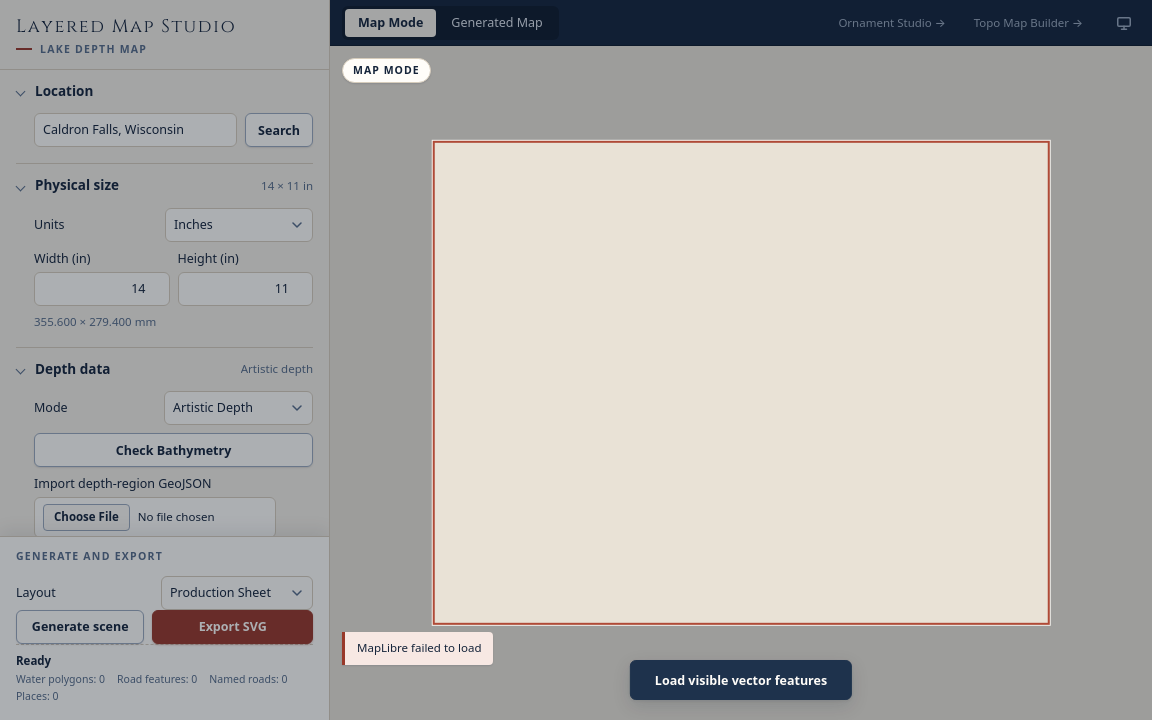
Test: a refused generate is impossible to miss › routes a thrown generate to the sidebar, the always-visible banner, and the preview
Select "True Bathymetry" in the dropdown labelled "Mode" at (238,408), box [164,391,313,425]
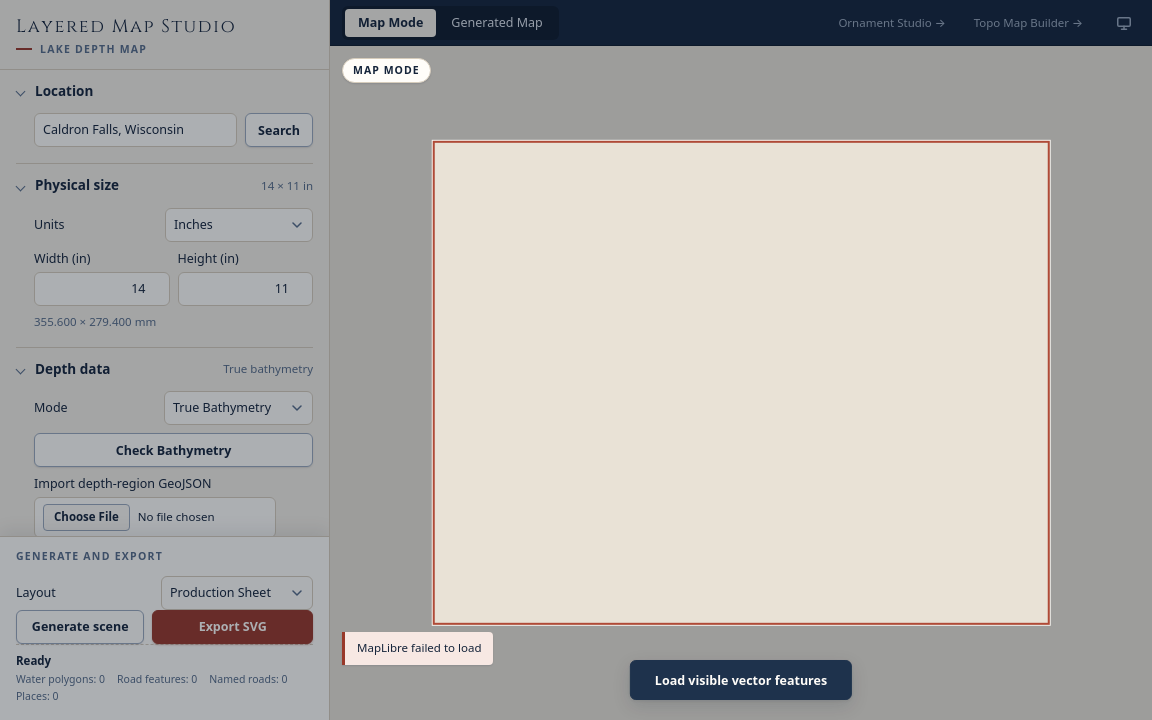
Click the button "Generate scene" at (80,627), box [16,610,144,644]
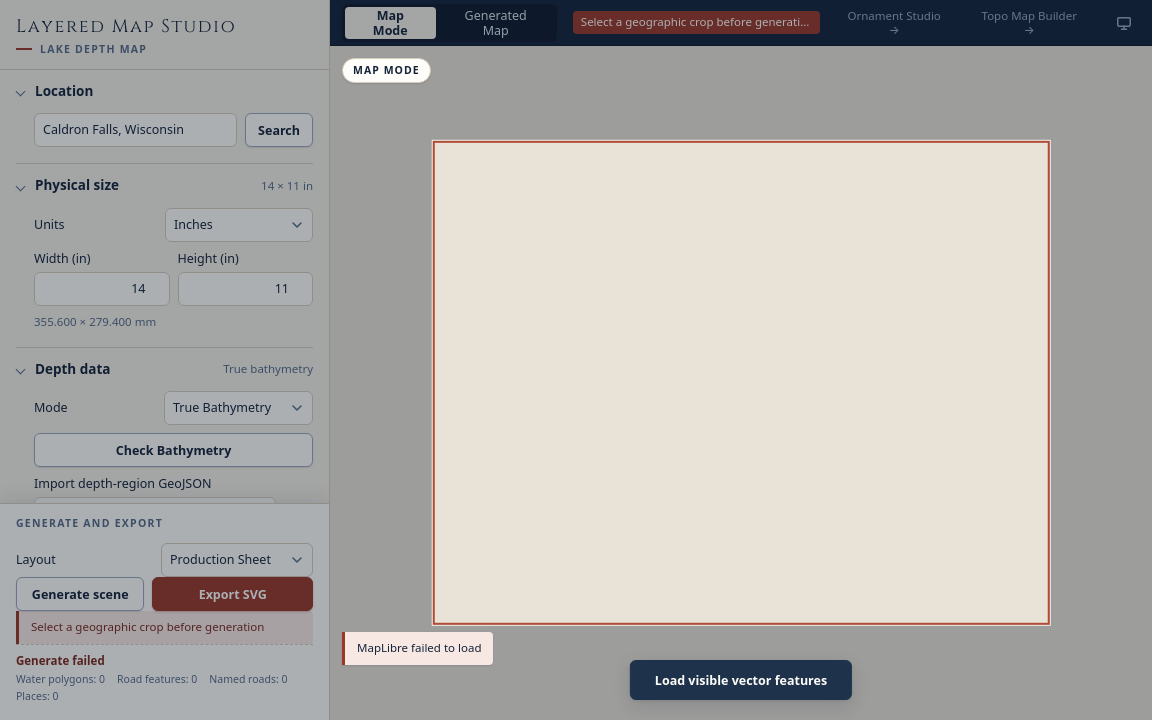
expect the 1st message "Select a geographic crop before generation" is shown: met, box [573,11,820,34]
Note: And the panel the user switches to explains itself rather than showing the never-ran placeholder.
Click the button "Generated Map" at (496,22), box [438,6,554,38]
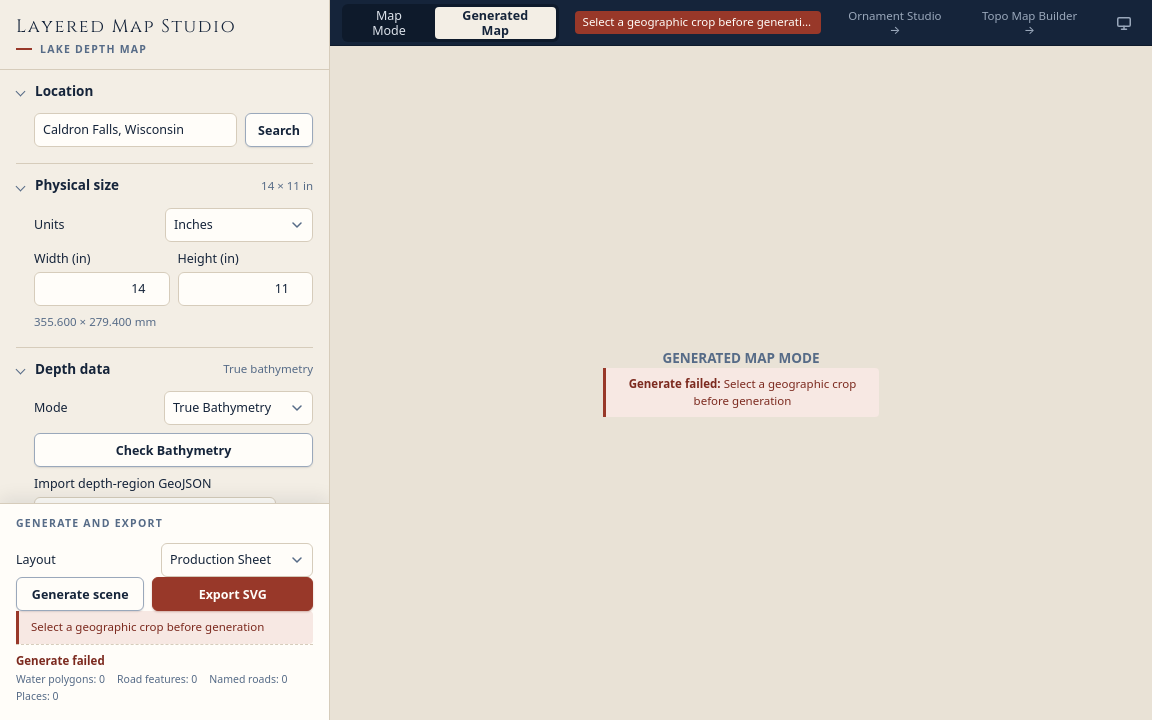
expect the message "Generate failed: Select a geographic crop before generation" is shown: met, box [603,368,879,417]
